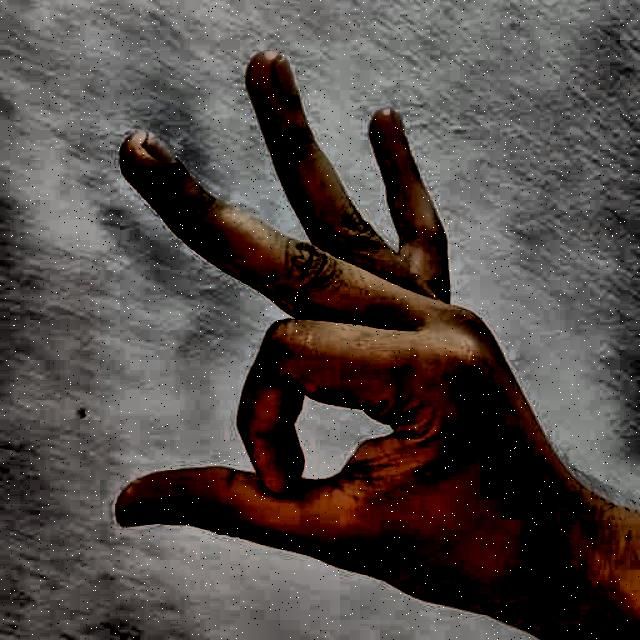Uo: (60, 28, 598, 619)
